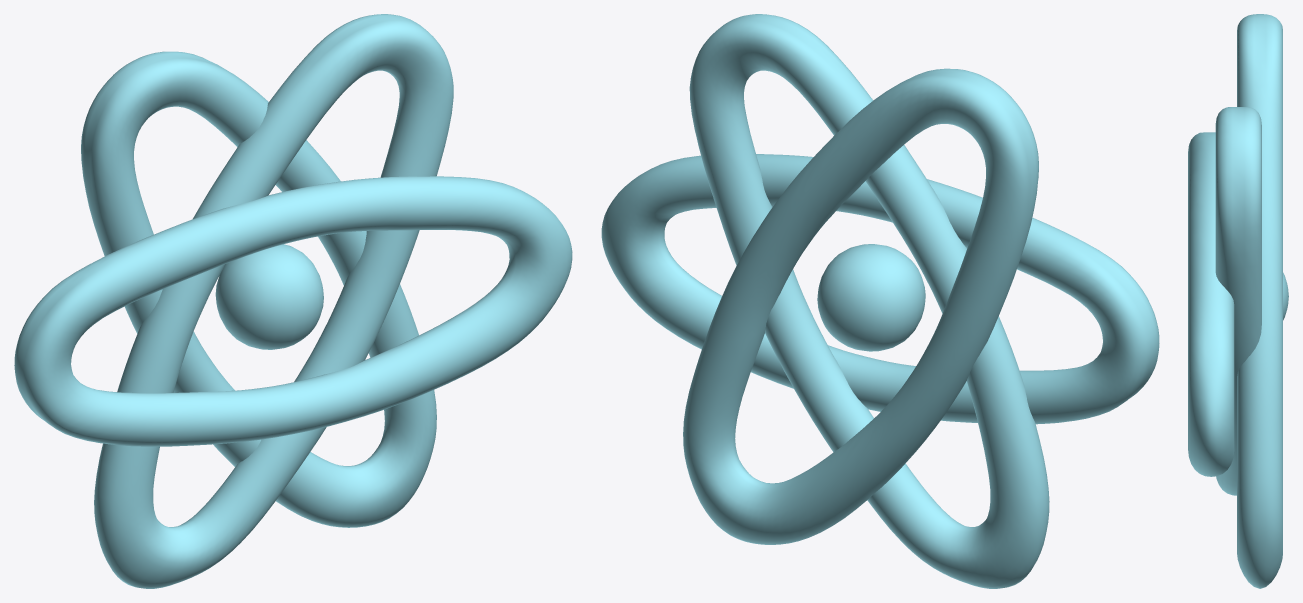
The model's file is reactModel.gltf.
The picture shows the model from 3 angles, left to right: view 1: azimuth 30°, elevation 25°; view 2: azimuth 150°, elevation 25°; view 3: azimuth 270°, elevation 25°; orthographic projection. The views are drawn at different scales.
Visible parts, largest first — view 1: Torus002, Torus003, Torus001, Cube; view 2: Torus001, Torus003, Torus002, Cube; view 3: Torus001, Torus002, Torus003, Cube.
Part boxes in pixels (x1,y1,x2,y2): Torus002: (14, 176, 572, 446); Torus003: (94, 14, 453, 588); Torus001: (81, 51, 436, 527); Cube: (215, 244, 323, 349); Torus001: (683, 68, 1038, 544); Torus003: (689, 14, 1049, 588); Torus002: (601, 154, 1159, 424); Cube: (817, 244, 925, 351); Torus001: (1237, 14, 1282, 588); Torus002: (1188, 132, 1234, 476); Torus003: (1215, 107, 1261, 495); Cube: (1283, 272, 1288, 320).
Size of the model in its own units: 2.67 by 2.4 by 0.4679.
